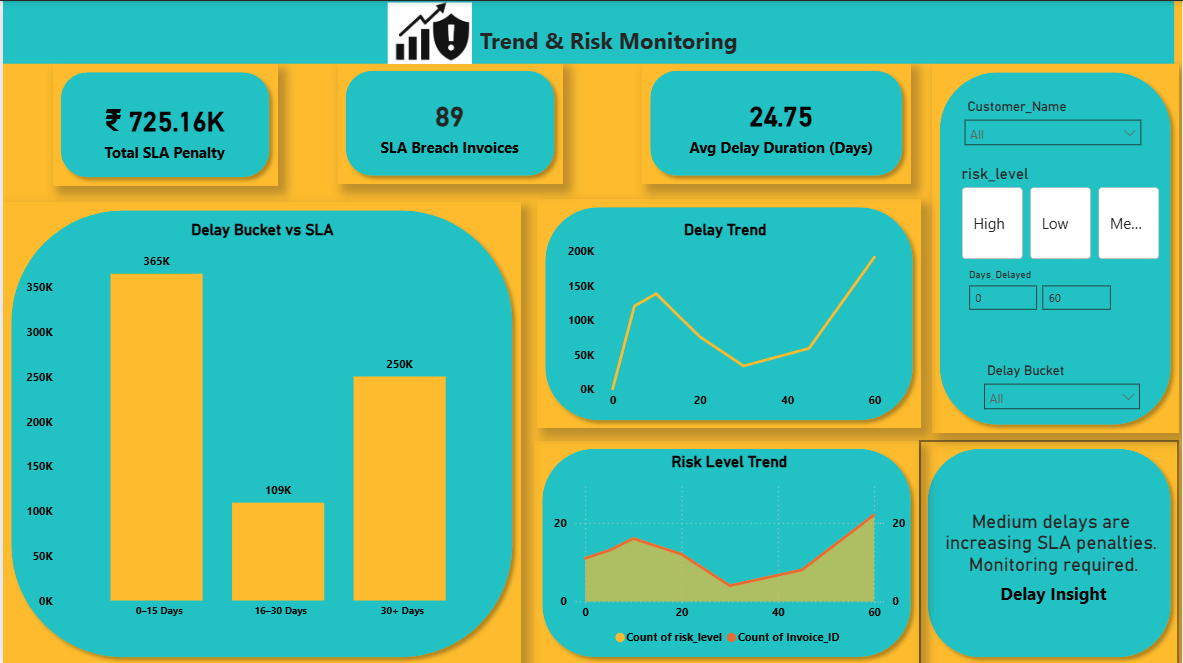

The dashboard page shown, as its layout file describes it:
{"tool":"powerbi","page":{"name":"Delay & SLA Trends","canvas":[1280,720],"ordinal":4},"visuals":[{"type":"shape","box":[1006.8,68.3,268.4,400.1],"z":0},{"type":"shape","box":[993.8,476.6,281.4,244],"z":1000},{"type":"shape","box":[576.4,476.2,417.6,243.8],"z":2000},{"type":"shape","box":[579,214.7,416.4,248.9],"z":3000},{"type":"shape","box":[692.9,66.7,291.2,131.8],"z":4000},{"type":"shape","box":[362.7,66.7,244,131.8],"z":5000},{"type":"shape","box":[53.7,68.3,244,131.8],"z":6000},{"type":"lineChart","title":"Delay Trend","fields":{"Y":["revenue_processed.Total SLA Penalty"],"Category":["revenue_processed.Days_Delayed"]},"box":[606.7,237.5,353,213.1],"z":7000},{"type":"shape","box":[0,217.3,561.3,502.7],"z":8000},{"type":"clusteredColumnChart","title":"Delay Bucket vs SLA","fields":{"Category":["revenue_processed.Delay Bucket"],"Y":["revenue_processed.Total SLA Penalty"]},"box":[18.9,238.1,523.5,440.3],"z":9000},{"type":"areaChart","title":"Risk Level Trend","fields":{"Category":["revenue_processed.Days_Delayed"],"Y":["CountNonNull(revenue_processed.risk_level)"],"Y2":["CountNonNull(revenue_processed.Invoice_ID)"]},"box":[591.5,489.5,391.2,219.2],"z":10000},{"type":"slicer","fields":{"Values":["revenue_processed.Customer_Name"]},"box":[1032.9,100.8,211.5,63.4],"z":11000},{"type":"advancedSlicerVisual","fields":{"Values":["revenue_processed.risk_level"]},"box":[1034.5,177.3,226.1,107.4],"z":12000},{"type":"slicer","fields":{"Values":["revenue_processed.Days_Delayed"]},"box":[1034.5,284.6,226.1,81.3],"z":13000},{"type":"card","fields":{"Values":["revenue_processed.Delay Insight 2"]},"box":[1006.8,489.6,263.5,218],"z":14000},{"type":"textbox","box":[0,0,1269.9,68],"z":15000},{"type":"card","fields":{"Values":["revenue_processed.Total SLA Penalty"]},"box":[87.8,100.8,174,76.4],"z":16000},{"type":"card","fields":{"Values":["revenue_processed.Delayed Invoices"]},"box":[396.9,89.5,174,87.8],"z":17000},{"type":"card","fields":{"Values":["Avg(revenue_processed.Days_Delayed)"]},"box":[727.1,89.5,232.6,87.8],"z":18000},{"type":"slicer","fields":{"Values":["revenue_processed.Delay Bucket"]},"box":[1054,387.1,188.7,63.4],"z":19000},{"type":"image","box":[413.1,1.6,99.2,66.7],"z":19001}]}

Visuals, with their boxes in screenshot pixels (x1, y1, x2, y2), scaled from the page's 1280x720 canvas onto the 1183x663 screenshot:
shape: <bbox>931, 63, 1179, 431</bbox>
shape: <bbox>918, 439, 1179, 662</bbox>
shape: <bbox>533, 439, 919, 662</bbox>
shape: <bbox>535, 198, 920, 427</bbox>
shape: <bbox>640, 61, 910, 183</bbox>
shape: <bbox>335, 61, 561, 183</bbox>
shape: <bbox>50, 63, 275, 184</bbox>
"Delay Trend" lineChart: <bbox>561, 219, 887, 415</bbox>
shape: <bbox>0, 200, 519, 662</bbox>
"Delay Bucket vs SLA" clusteredColumnChart: <bbox>17, 219, 501, 625</bbox>
"Risk Level Trend" areaChart: <bbox>547, 451, 908, 653</bbox>
slicer - revenue_processed.Customer_Name: <bbox>955, 93, 1150, 151</bbox>
advancedSlicerVisual - revenue_processed.risk_level: <bbox>956, 163, 1165, 262</bbox>
slicer - revenue_processed.Days_Delayed: <bbox>956, 262, 1165, 337</bbox>
card - revenue_processed.Delay Insight 2: <bbox>931, 451, 1174, 652</bbox>
textbox: <bbox>0, 0, 1174, 63</bbox>
card - revenue_processed.Total SLA Penalty: <bbox>81, 93, 242, 163</bbox>
card - revenue_processed.Delayed Invoices: <bbox>367, 82, 528, 163</bbox>
card - Avg(revenue_processed.Days_Delayed): <bbox>672, 82, 887, 163</bbox>
slicer - revenue_processed.Delay Bucket: <bbox>974, 356, 1149, 415</bbox>
image: <bbox>382, 1, 473, 63</bbox>
